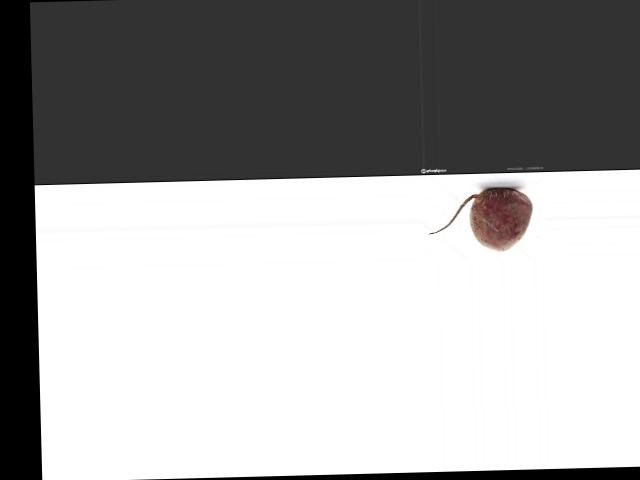beet: (428, 186, 534, 251)
